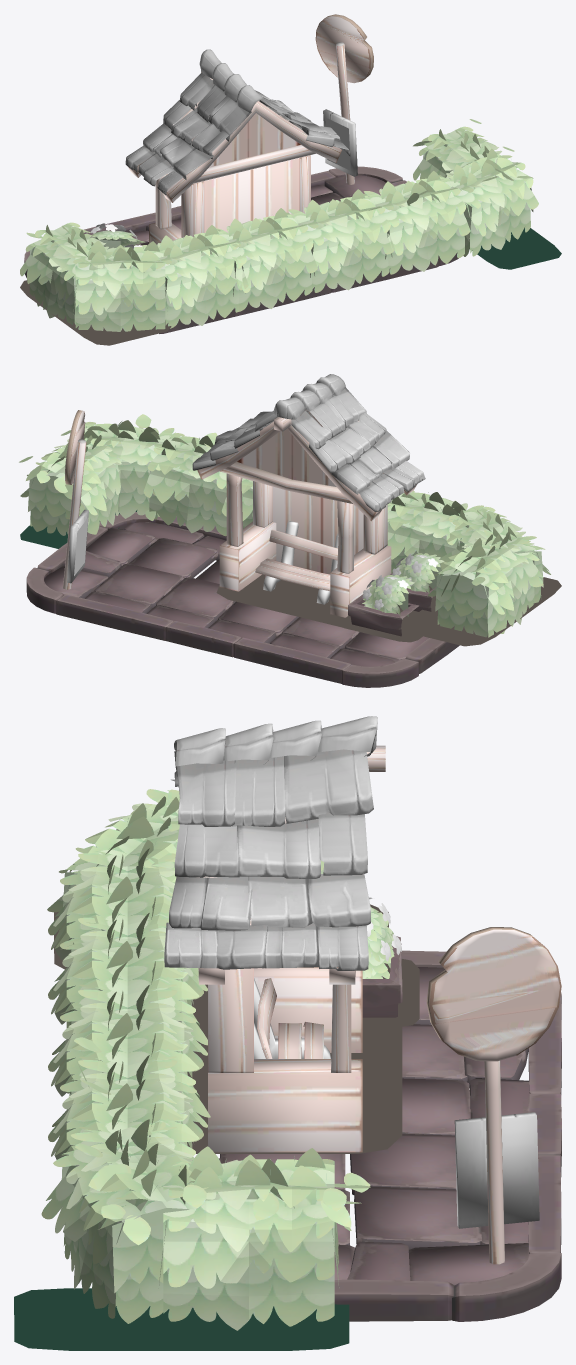
Rendered from Busstop.fbx.
3 renders of one model, top to bottom at view 1: azimuth 30°, elevation 25°; view 2: azimuth 150°, elevation 25°; view 3: azimuth 270°, elevation 25°, orthographic. The views are drawn at different scales.
Visible parts, largest first — view 1: Hedge (×8), BusstopShelter, BusstopSign, ShadowSquare (2), Timetable, ShadowSquare (3), Stoneplate02 (11), BushBlue, curbstone2 (3), curbstone2 (6), curbstonecurve1 (1), curbstone2 (2); view 2: Hedge (×7), BusstopShelter, BusstopBench, ShadowSquare (1), curbstone2 (4), curbstone2 (3), Stoneplate02 (13), BushBlue (×2), Stoneplate02 (12), ShadowSquare (3), Stoneplate02 (6), BusstopSign (+23 smaller); view 3: Hedge (×7), BusstopShelter, BusstopSign, ShadowSquare (2), Timetable, ShadowSquare (1), Stoneplate02 (13), curbstonecurve1 (1), Stoneplate02 (6), curbstone1, Stoneplate02 (11), Stoneplate02 (7) (+12 smaller).
Boxes of the visible parts, x1,y1,x2,y2 form: Hedge (×8): (20, 126, 538, 331); BusstopShelter: (125, 49, 350, 244); BusstopSign: (315, 14, 373, 184); ShadowSquare (2): (472, 228, 561, 269); Timetable: (323, 109, 357, 176); ShadowSquare (3): (20, 280, 171, 345); Stoneplate02 (11): (324, 175, 385, 197); BushBlue: (92, 230, 145, 249); curbstone2 (3): (84, 212, 155, 237); curbstone2 (6): (226, 283, 331, 318); curbstonecurve1 (1): (328, 166, 402, 182); curbstone2 (2): (331, 255, 438, 292); Hedge (×7): (20, 420, 550, 637); BusstopShelter: (192, 374, 425, 617); BusstopBench: (255, 521, 338, 604); ShadowSquare (1): (216, 574, 432, 627); curbstone2 (4): (56, 594, 173, 640); curbstone2 (3): (233, 637, 350, 683); Stoneplate02 (13): (94, 563, 183, 608); BushBlue (×2): (362, 553, 444, 616); Stoneplate02 (12): (129, 538, 218, 578); ShadowSquare (3): (403, 577, 561, 646); Stoneplate02 (6): (156, 577, 242, 621); BusstopSign: (63, 410, 86, 589); Hedge (×7): (41, 789, 339, 1330); BusstopShelter: (164, 716, 385, 1152); BusstopSign: (426, 927, 561, 1264); ShadowSquare (2): (14, 1288, 349, 1350); Timetable: (454, 1112, 539, 1228); ShadowSquare (1): (187, 1001, 402, 1153); Stoneplate02 (13): (354, 1186, 481, 1252); curbstonecurve1 (1): (452, 1253, 561, 1321); Stoneplate02 (6): (350, 1133, 456, 1194); curbstone1: (334, 1279, 454, 1321); Stoneplate02 (11): (409, 1243, 529, 1285); Stoneplate02 (7): (402, 1078, 470, 1135).
Bounding box in the file's own units: 9.43 × 4.04 × 4.95.
